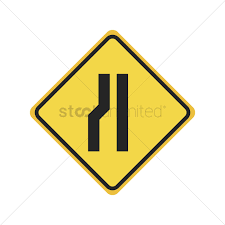Narrow_road: (28, 28, 197, 195)
